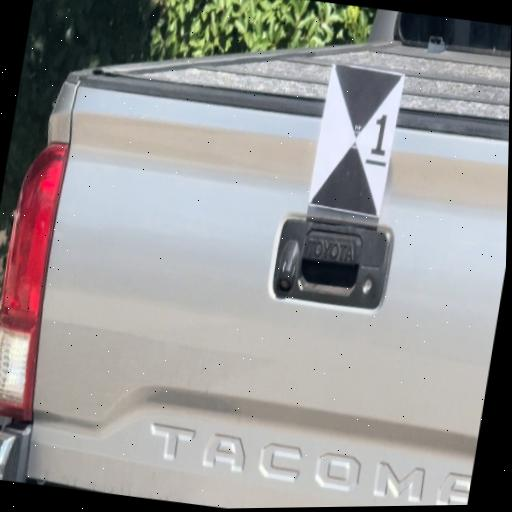target1: (308, 63, 403, 221)
